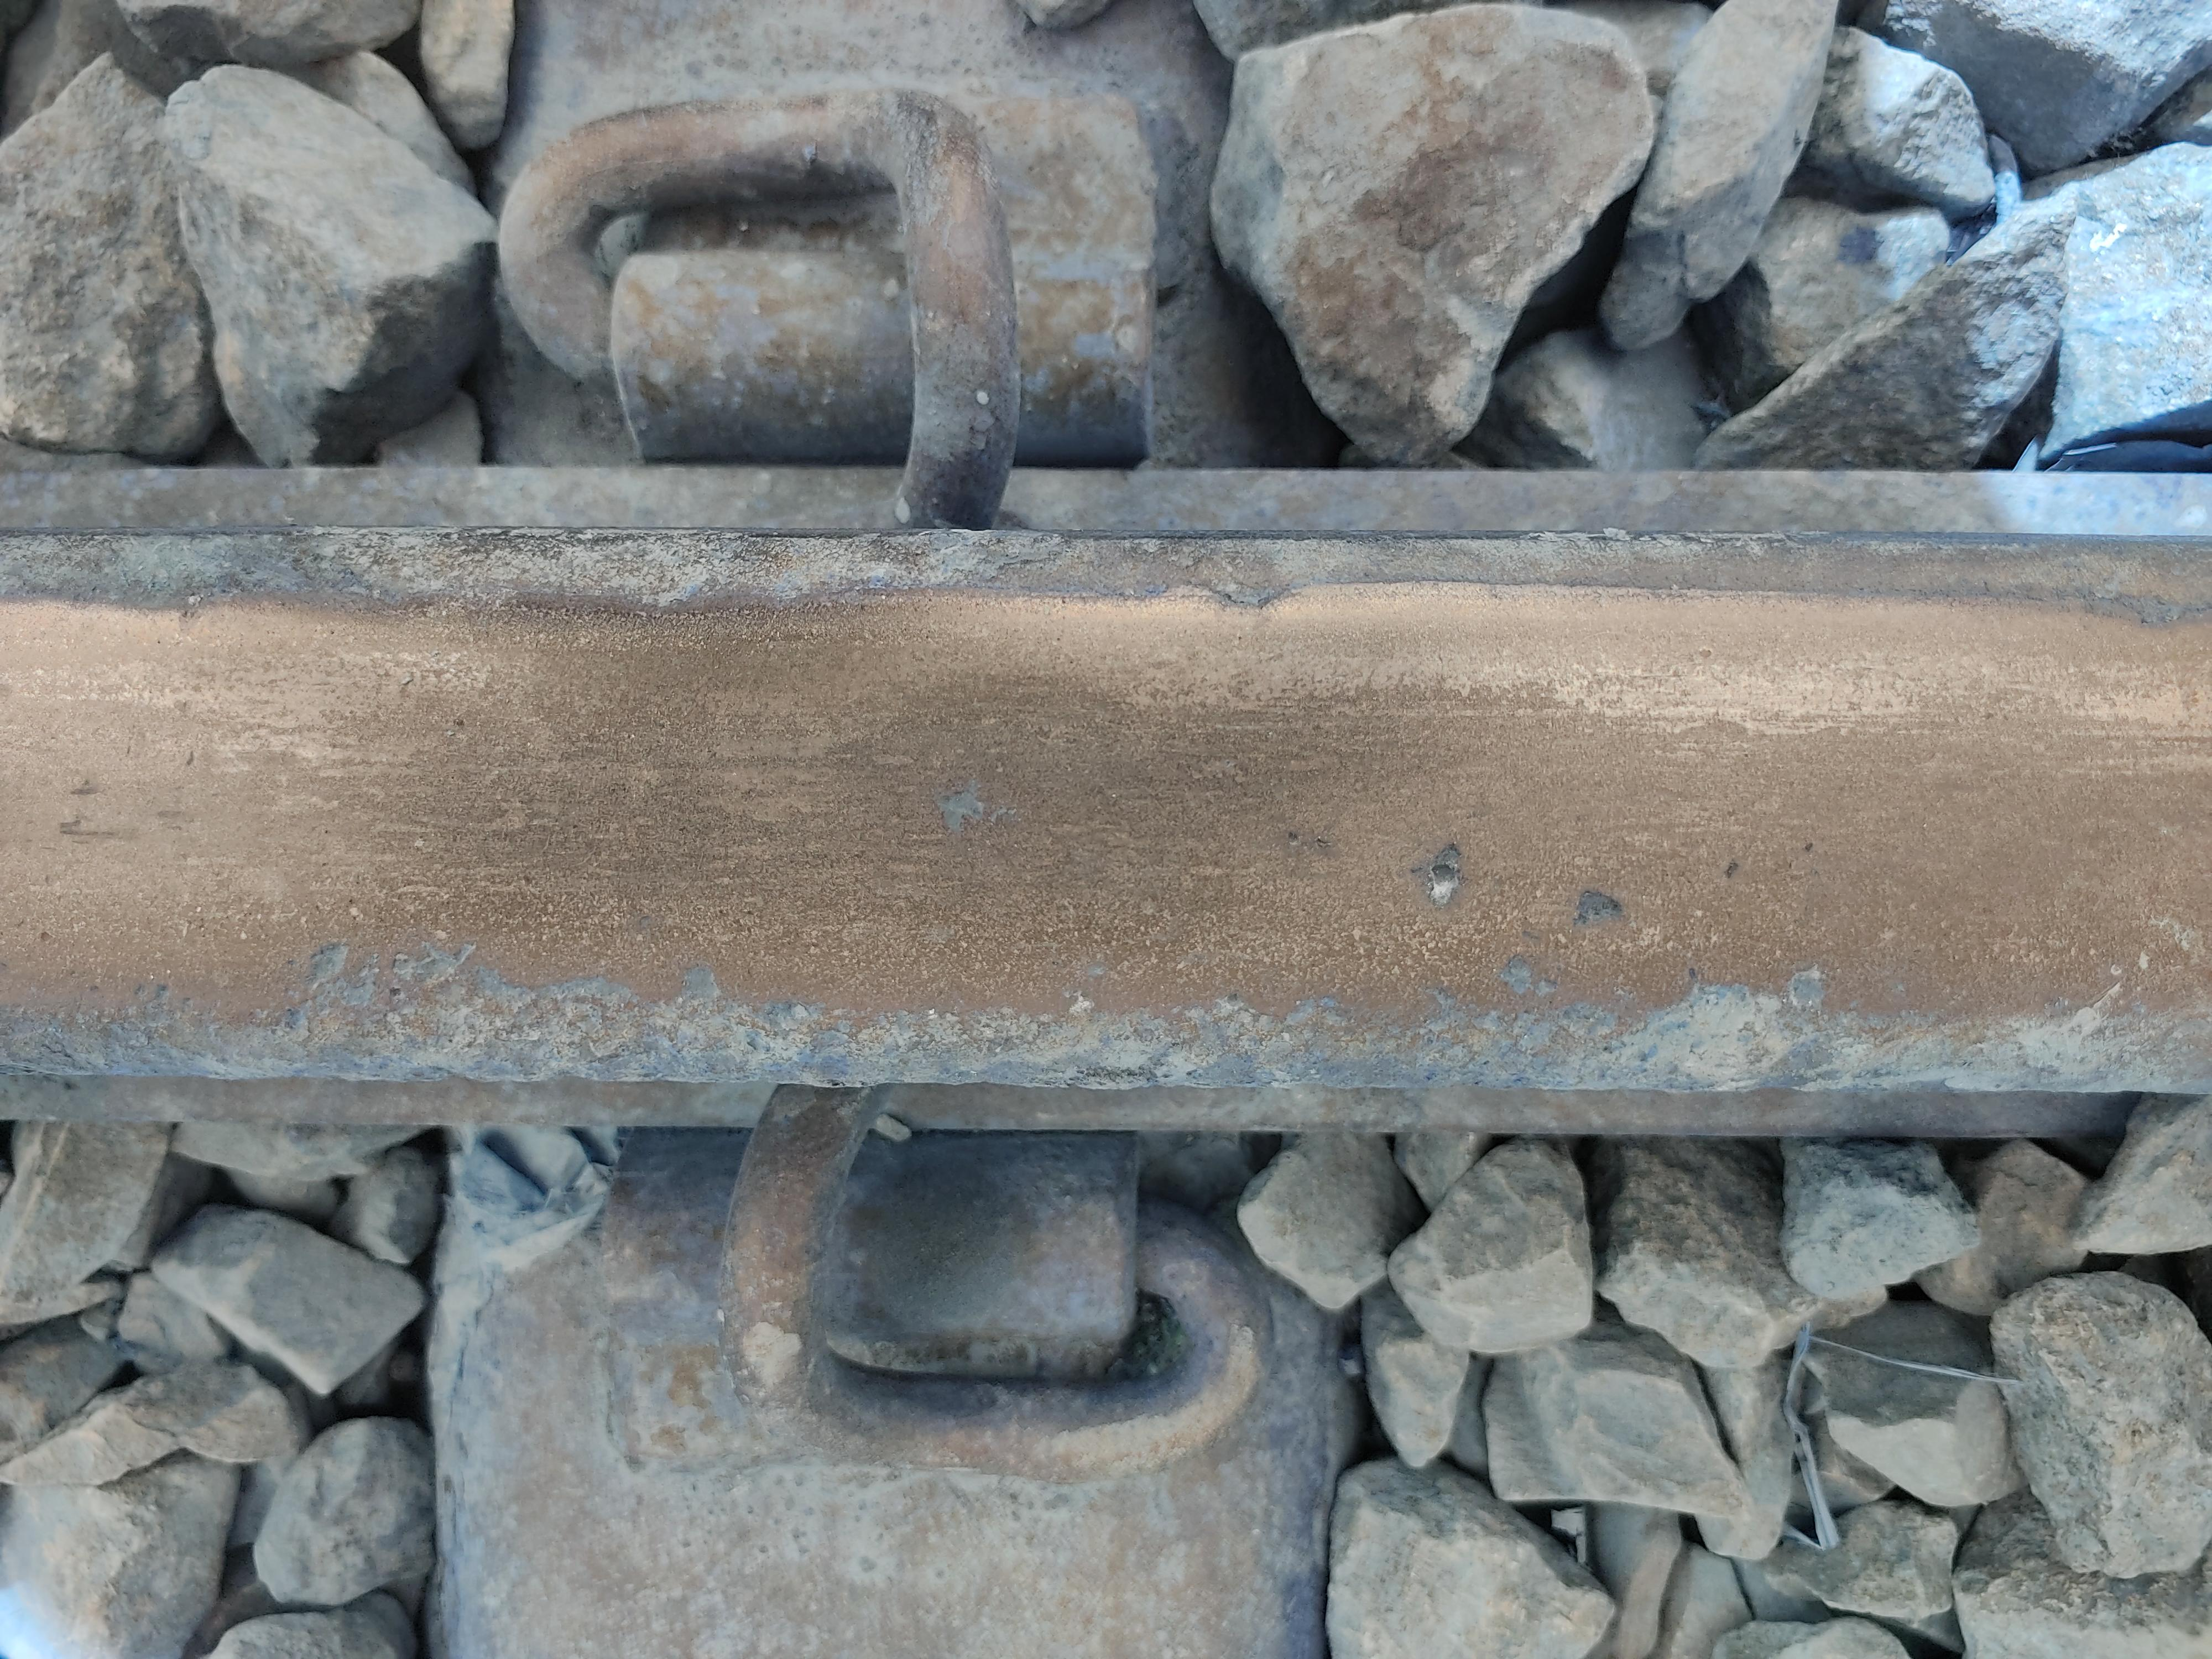error1: (512, 49, 1080, 559), (718, 1079, 1291, 1509)
